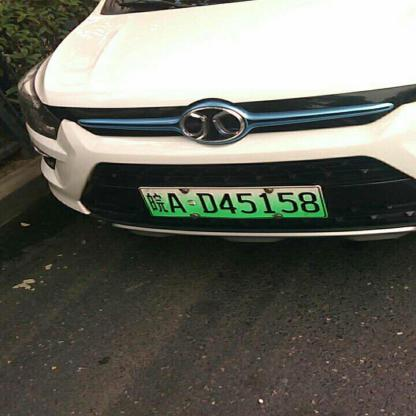lp: (140, 187, 325, 215)
